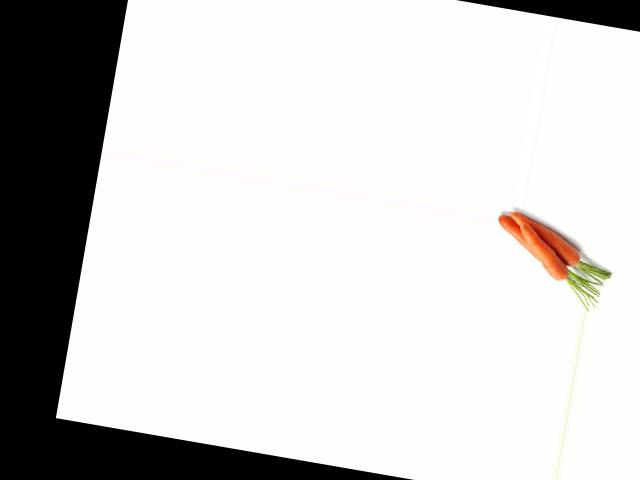carrot: (498, 207, 601, 269)
